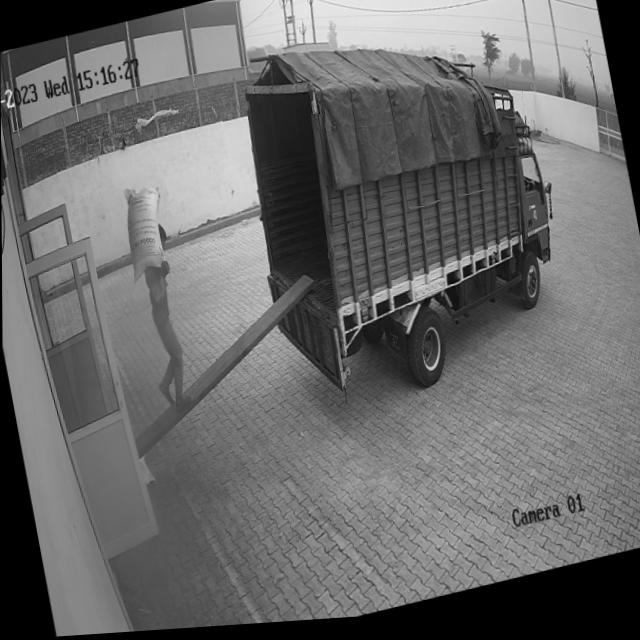sack: (117, 180, 174, 285)
